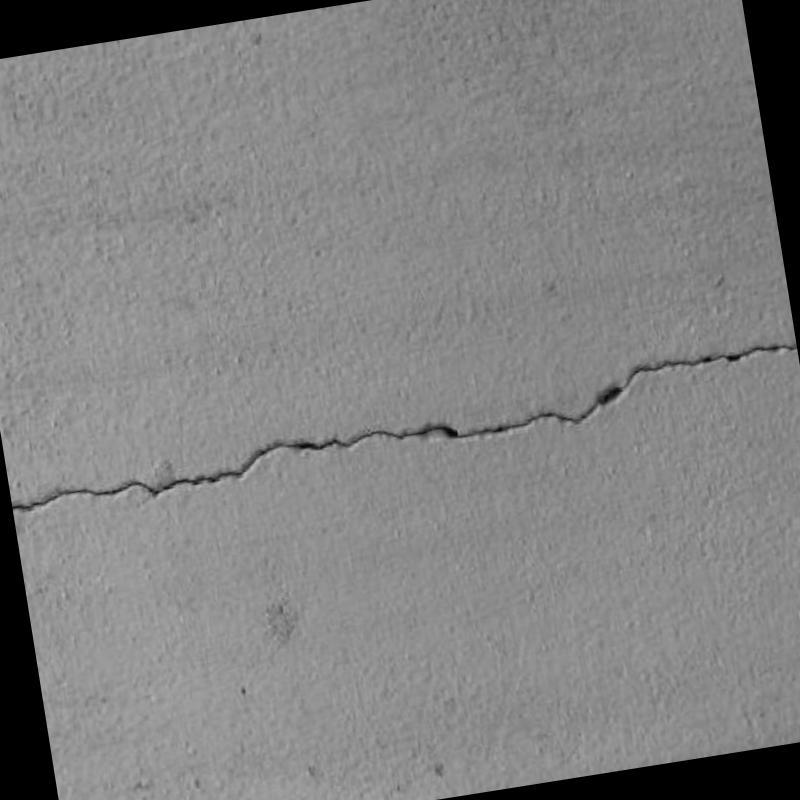pothole: (11, 343, 796, 513)
